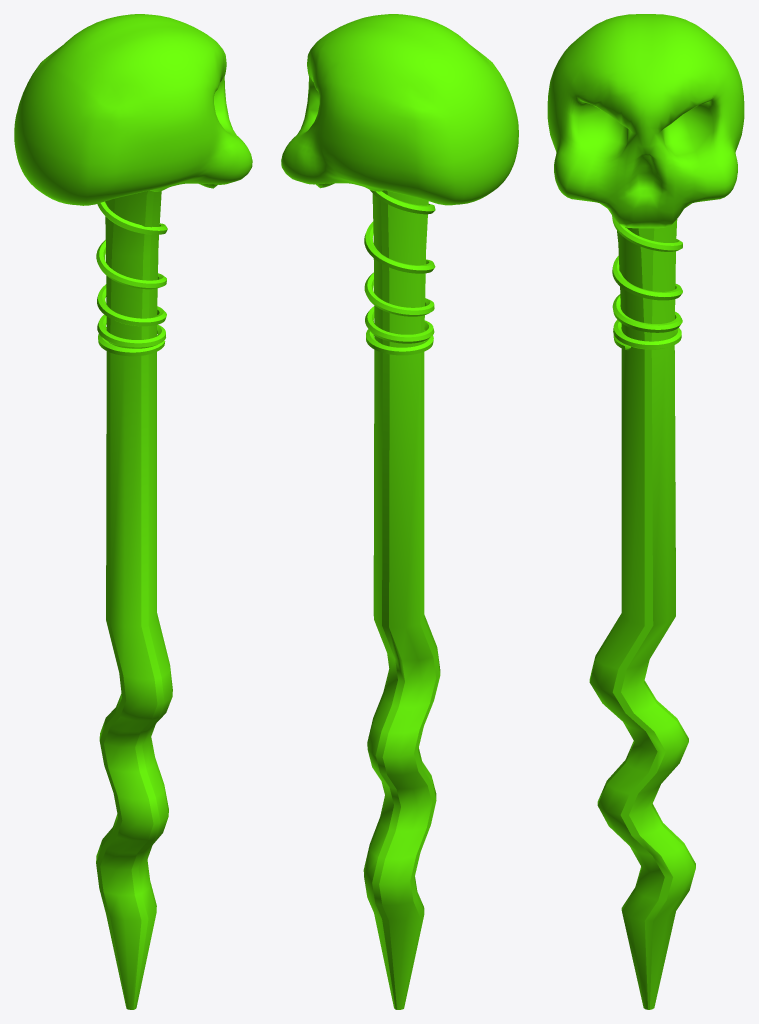
File: LichStaff.FBX
3 renders of one model, left to right at view 1: azimuth 30°, elevation 25°; view 2: azimuth 150°, elevation 25°; view 3: azimuth 270°, elevation 25°, orthographic.
Parts seen in each view (by area): view 1: Skull; view 2: Skull; view 3: Skull.
Boxes of the visible parts, left/top/right/bottom form: Skull: left=14, top=14, right=252, bottom=1009; Skull: left=281, top=14, right=518, bottom=1009; Skull: left=547, top=14, right=744, bottom=1009.
Size of the model in its own units: 10.57 by 51.33 by 9.32.
